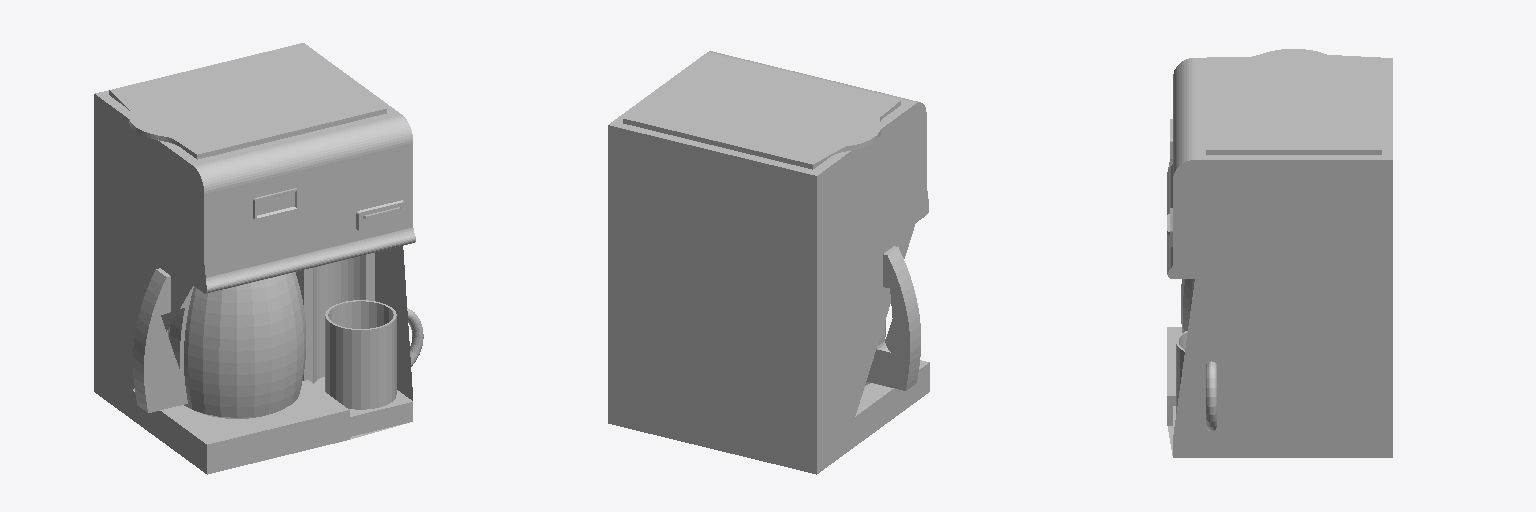
Rendered from coffee maker.obj.
3 renders of one model, left to right at view 1: azimuth 30°, elevation 25°; view 2: azimuth 150°, elevation 25°; view 3: azimuth 270°, elevation 25°, orthographic.
Visible parts, largest first — view 1: Mesh7 Group2 Group1 Model, Mesh9 Group5 Group3 Group1 Model, Mesh13 Group9 Group8 Group1 Model, Mesh12 Group7 Group3 Group1 Model, Mesh15 Group10 Group8 Group1 Model; view 2: Mesh7 Group2 Group1 Model, Mesh12 Group7 Group3 Group1 Model; view 3: Mesh7 Group2 Group1 Model, Mesh15 Group10 Group8 Group1 Model, Mesh9 Group5 Group3 Group1 Model.
Boxes of the visible parts, x1=… form: Mesh7 Group2 Group1 Model: x1=94, y1=43, x2=415, y2=474; Mesh9 Group5 Group3 Group1 Model: x1=168, y1=272, x2=305, y2=418; Mesh13 Group9 Group8 Group1 Model: x1=325, y1=300, x2=396, y2=409; Mesh12 Group7 Group3 Group1 Model: x1=133, y1=268, x2=193, y2=412; Mesh15 Group10 Group8 Group1 Model: x1=396, y1=308, x2=423, y2=366; Mesh7 Group2 Group1 Model: x1=608, y1=51, x2=929, y2=474; Mesh12 Group7 Group3 Group1 Model: x1=866, y1=246, x2=920, y2=390; Mesh7 Group2 Group1 Model: x1=1167, y1=49, x2=1392, y2=457; Mesh15 Group10 Group8 Group1 Model: x1=1206, y1=361, x2=1216, y2=431; Mesh9 Group5 Group3 Group1 Model: x1=1181, y1=279, x2=1194, y2=332.
Bounding box in the file's own units: 13.96 × 15.25 × 10.25.